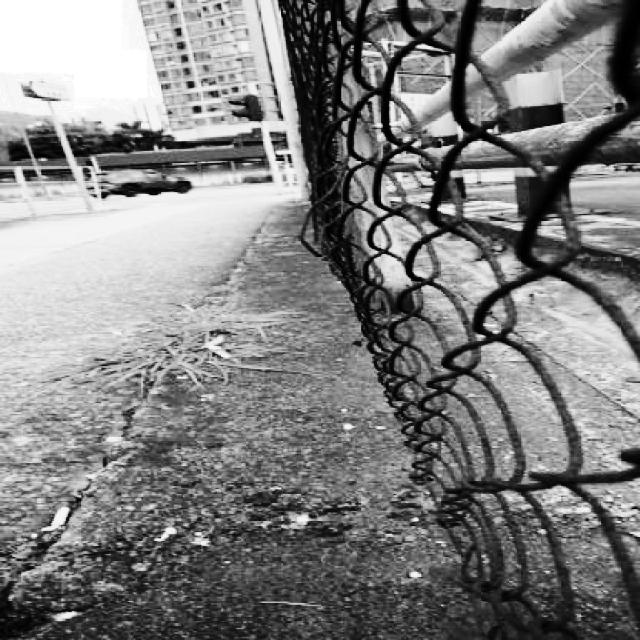fences: (317, 0, 640, 575)
